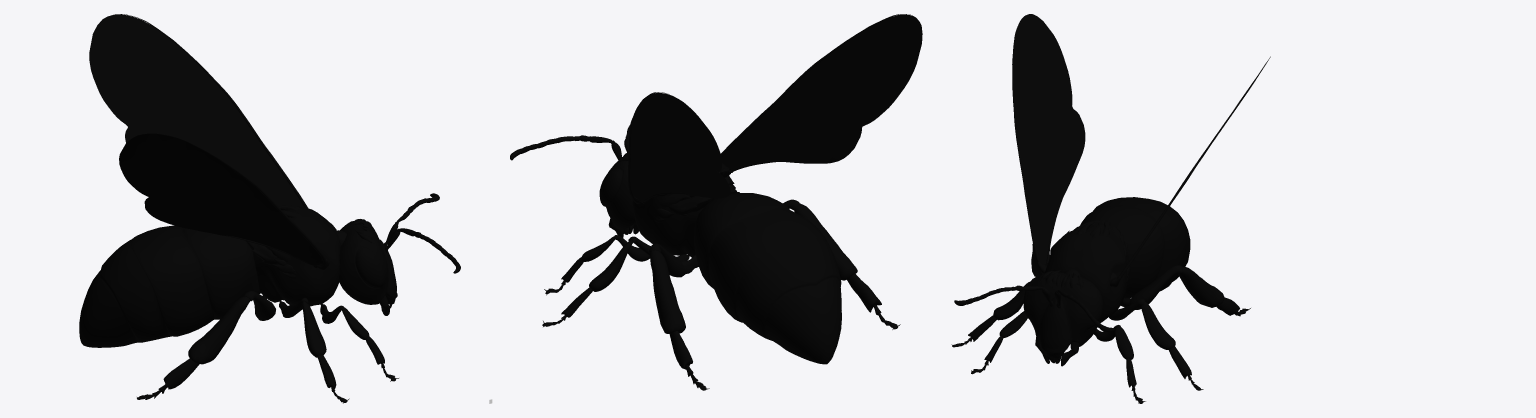
The model's file is bee.glb.
3 renders of one model, left to right at view 1: azimuth 30°, elevation 25°; view 2: azimuth 150°, elevation 25°; view 3: azimuth 270°, elevation 25°, orthographic. The views are drawn at different scales.
Visible parts, largest first — view 1: mesh_id177; view 2: mesh_id177; view 3: mesh_id177.
Boxes of the visible parts, left/top/right/bottom form: mesh_id177: left=79, top=14, right=460, bottom=403; mesh_id177: left=510, top=14, right=922, bottom=390; mesh_id177: left=951, top=14, right=1270, bottom=403.
Size of the model in its own units: 0.6657 by 0.512 by 1.02.
Materials: 2 (2 with a texture image).
